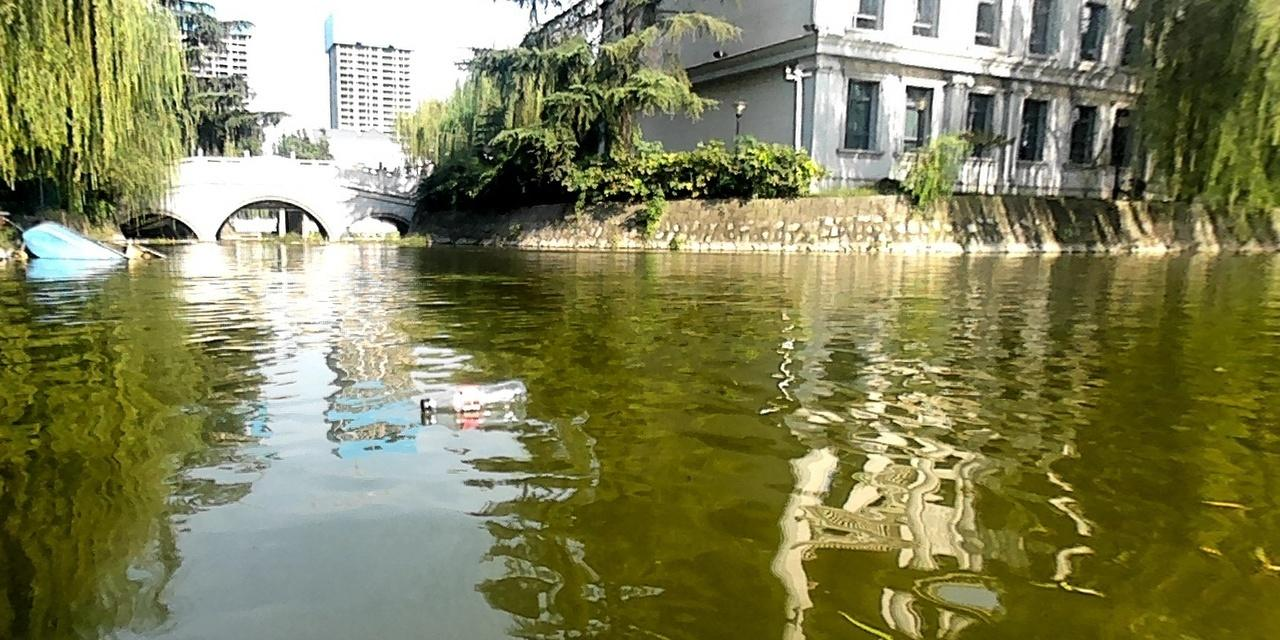bottle: (419, 378, 525, 422)
